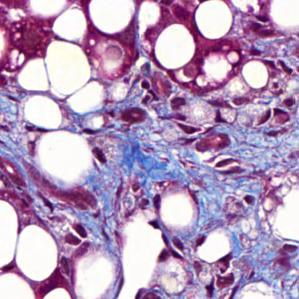steatosis: (156, 25, 197, 71), (195, 0, 231, 40)
